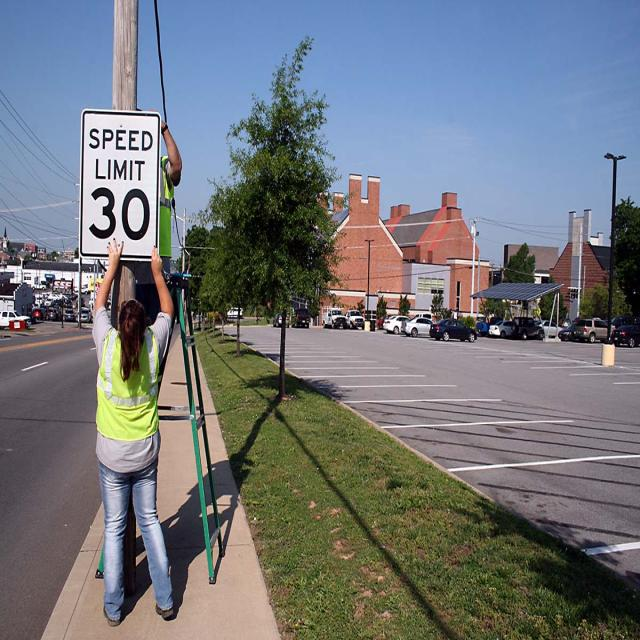speedLimit35: (82, 109, 161, 262)
